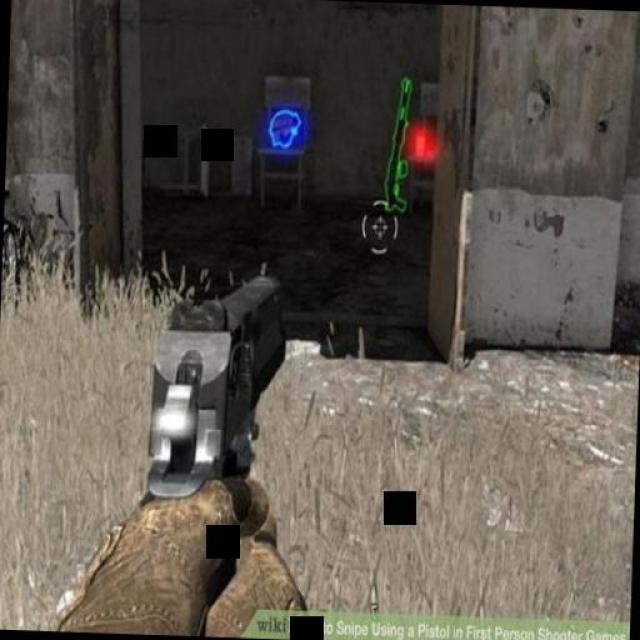gun: (136, 250, 294, 539)
